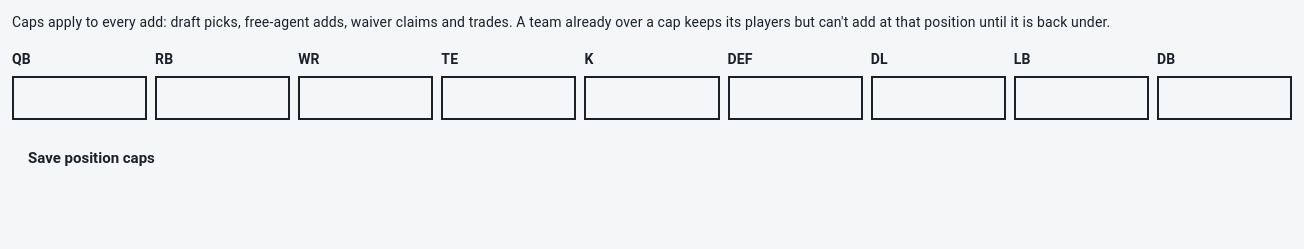
Test: blocks an out-of-range position cap
Type "11" into the number field labelled "QB" at (80,98), box [12, 76, 147, 120]
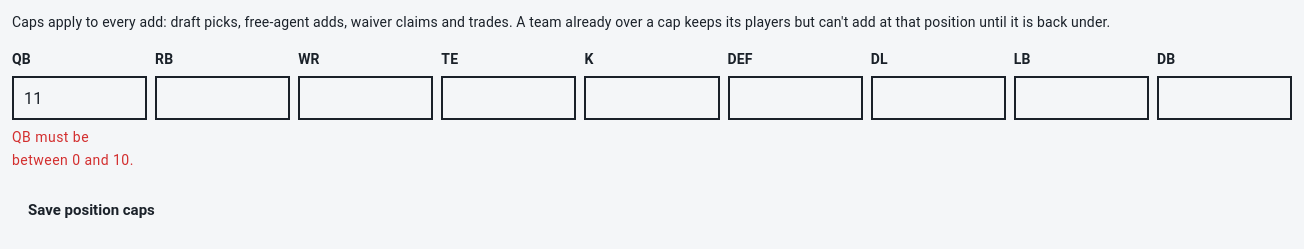
Now the text "QB must be between 0 and 10." is shown, box [12, 126, 147, 172]
Now the button "Save position caps" is disabled, box [12, 188, 171, 232]
